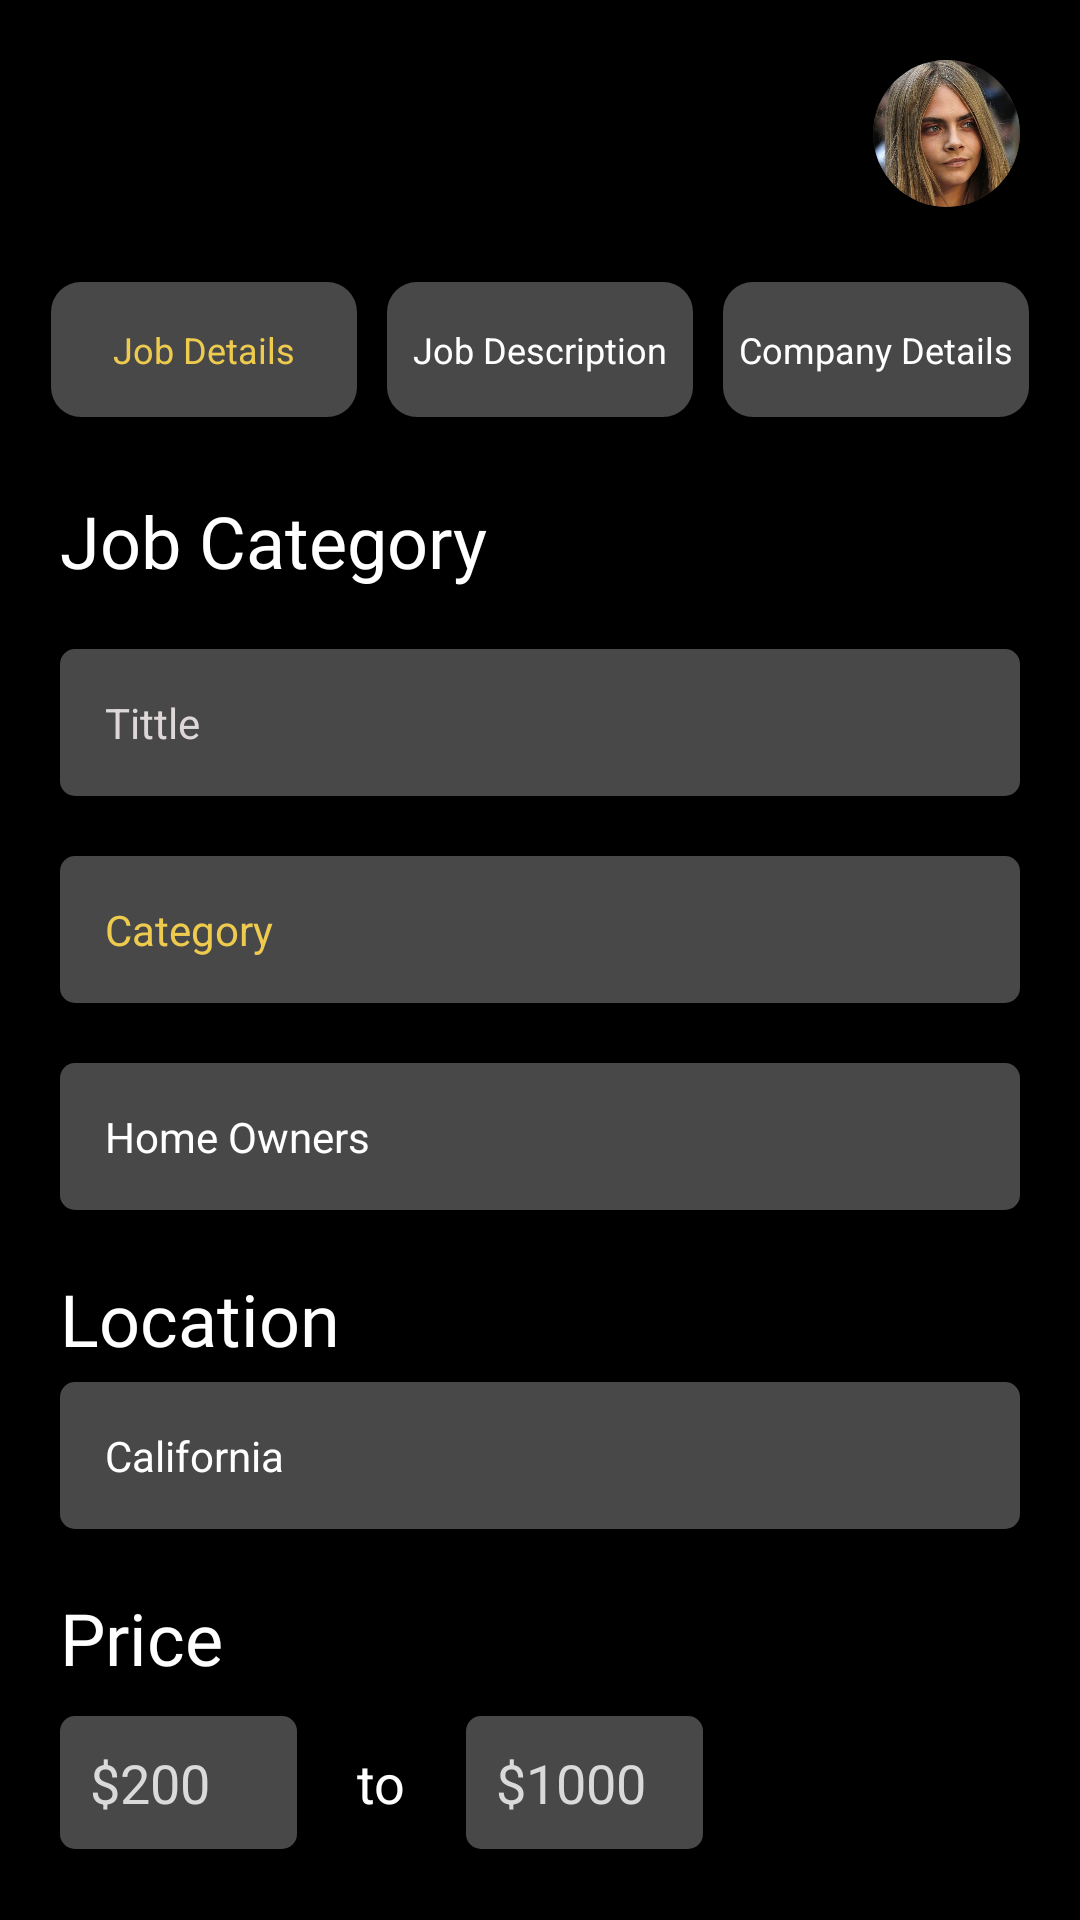

Where to tap for icons on this 1080*1920 app screen, as (x=x, y=y):
imggirl: (x=946, y=133)
